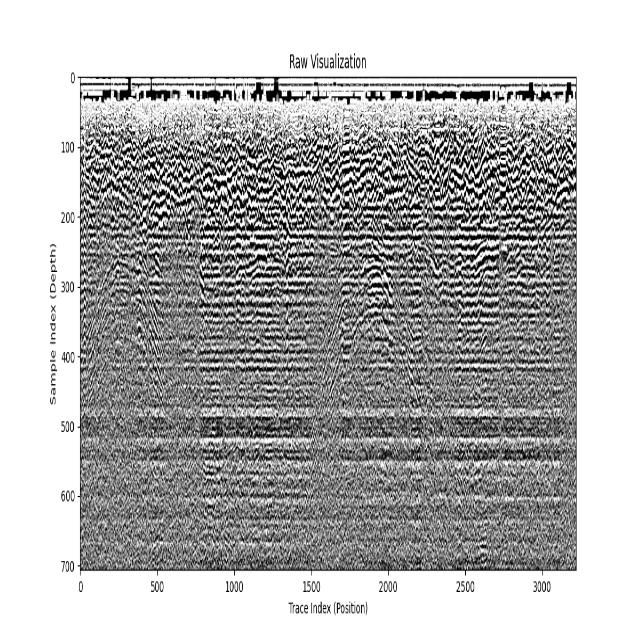anomaly: (326, 247, 404, 387)
